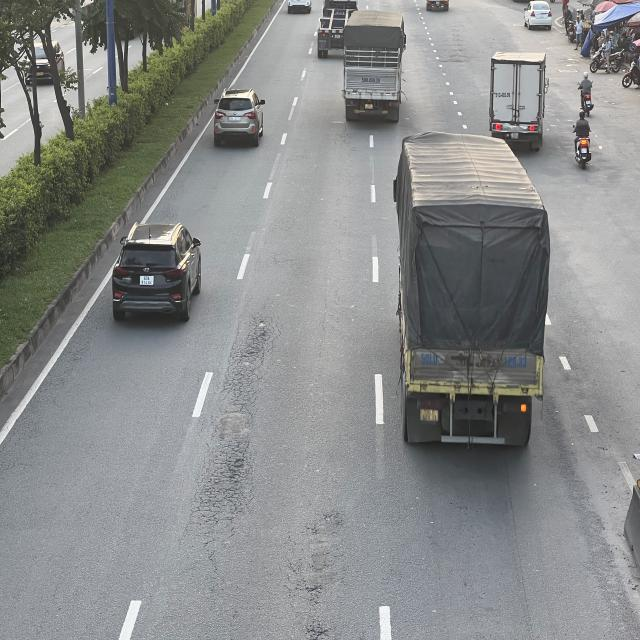car: (111, 224, 206, 326), (212, 90, 266, 147), (521, 2, 554, 28)
truck: (392, 133, 548, 450), (344, 9, 406, 124), (488, 51, 547, 146)
